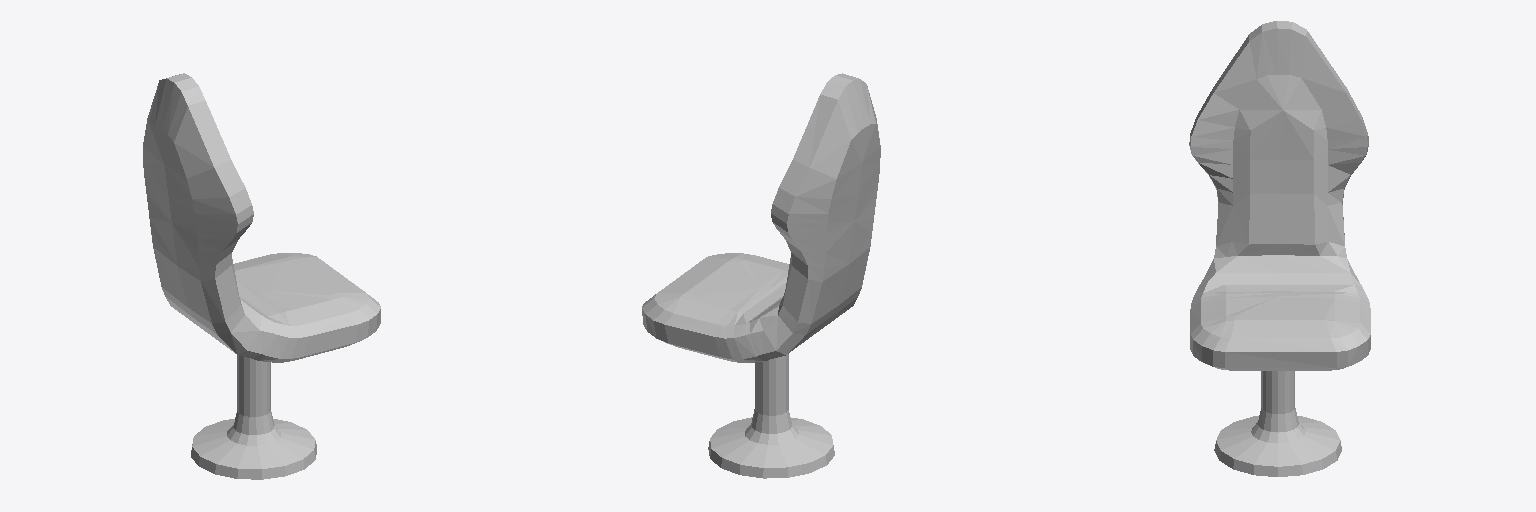
The model's file is officeChair.obj.
3 views of the same model, side by side, from view 1: azimuth 30°, elevation 25°; view 2: azimuth 150°, elevation 25°; view 3: azimuth 270°, elevation 25° (orthographic).
Visible parts, largest first — view 1: Office_chair; view 2: Office_chair; view 3: Office_chair.
Part boxes in pixels (left/top/right/bottom): Office_chair: left=143, top=73, right=380, bottom=479; Office_chair: left=642, top=73, right=880, bottom=478; Office_chair: left=1189, top=21, right=1370, bottom=476.
Bounding box in the file's own units: 1.01 × 1.99 × 0.8345.